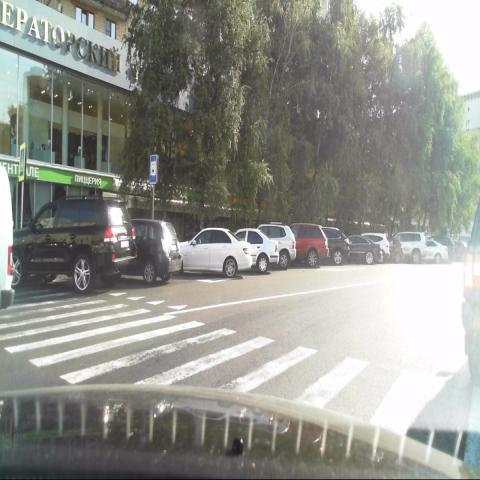7_5: (150, 154, 158, 184)
